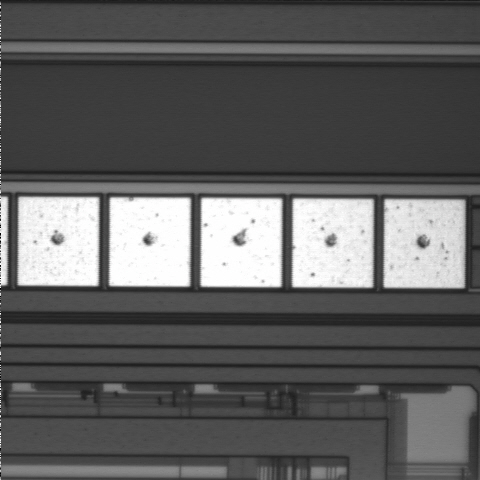pad: (109, 197, 191, 287), (18, 197, 99, 286), (201, 198, 282, 287), (384, 199, 465, 288), (292, 199, 373, 287)
